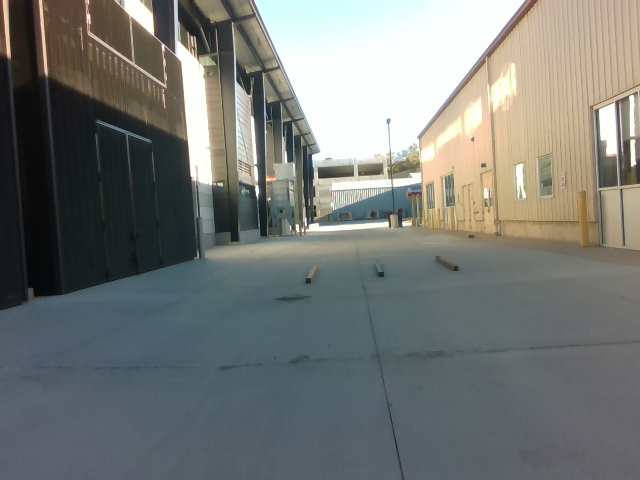dunnage: (299, 248, 464, 295)
